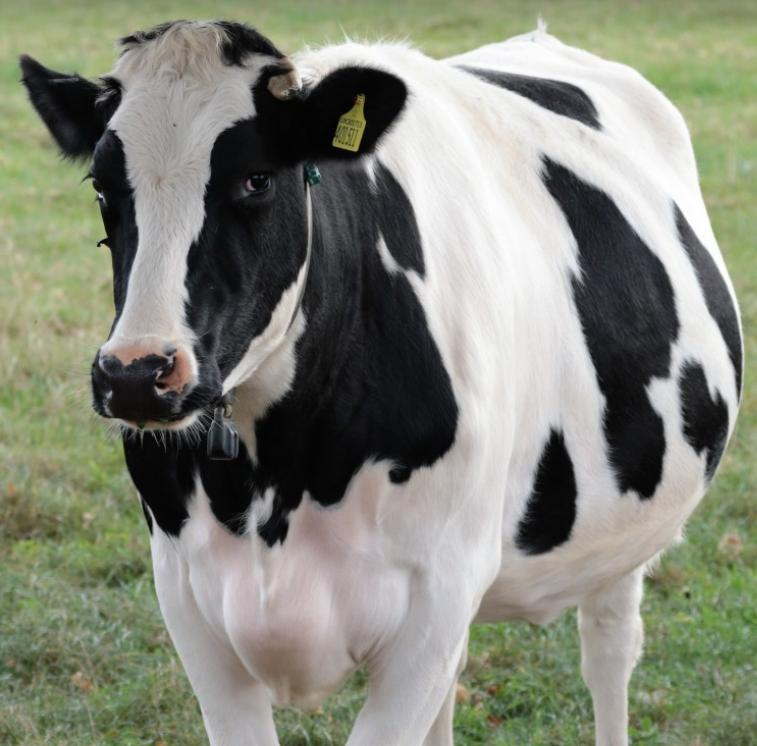cow: (17, 16, 746, 746)
